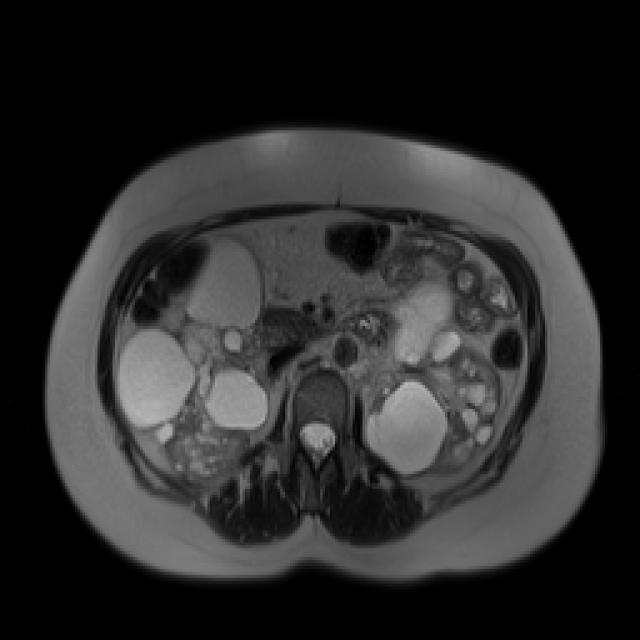sag: (114, 238, 272, 484)
sol: (364, 280, 501, 479)
